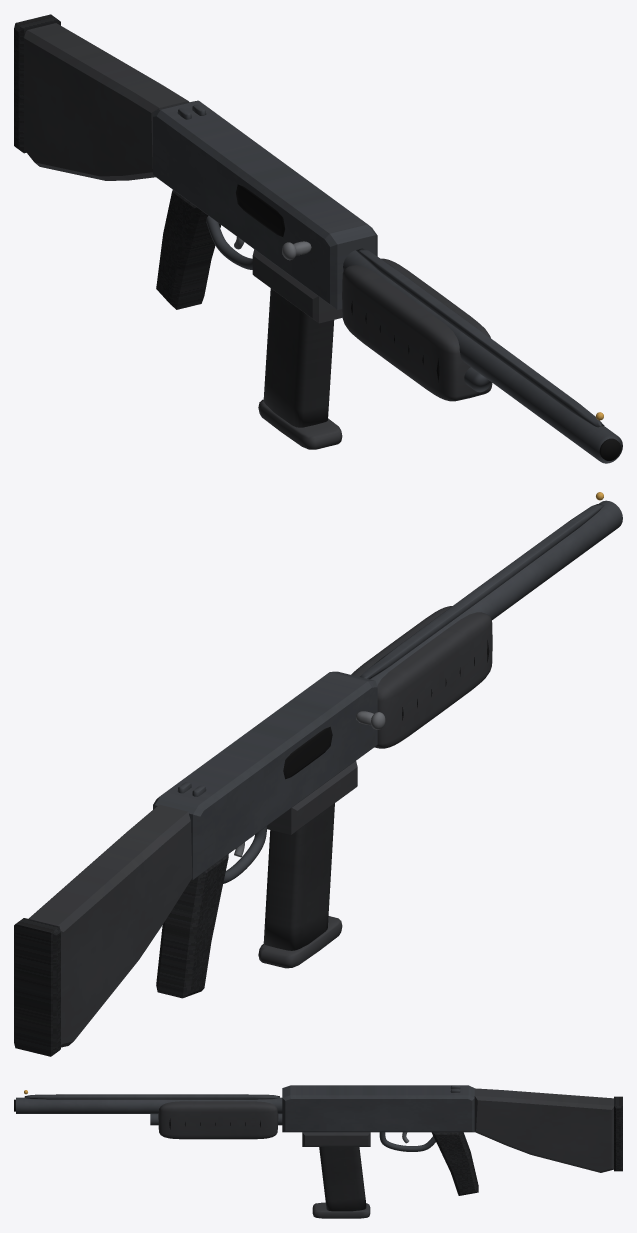
File: Shotgun.glb
The picture shows the model from 3 angles, top to bottom: view 1: azimuth 30°, elevation 25°; view 2: azimuth 150°, elevation 25°; view 3: azimuth 270°, elevation 25°; orthographic projection. The views are drawn at different scales.
Parts seen in each view (by area): view 1: Body, Magazine; view 2: Body, Magazine; view 3: Body, Magazine.
Part boxes in pixels (x1,y1,x2,y2): Body: (14,14,622,463); Magazine: (258,288,342,449); Body: (14,492,622,1056); Magazine: (258,803,342,968); Body: (14,1085,622,1195); Magazine: (312,1147,370,1218).
Bounding box in the file's own units: 0.233 × 0.7 × 3.04.
Materials: 1 (1 with a texture image).
